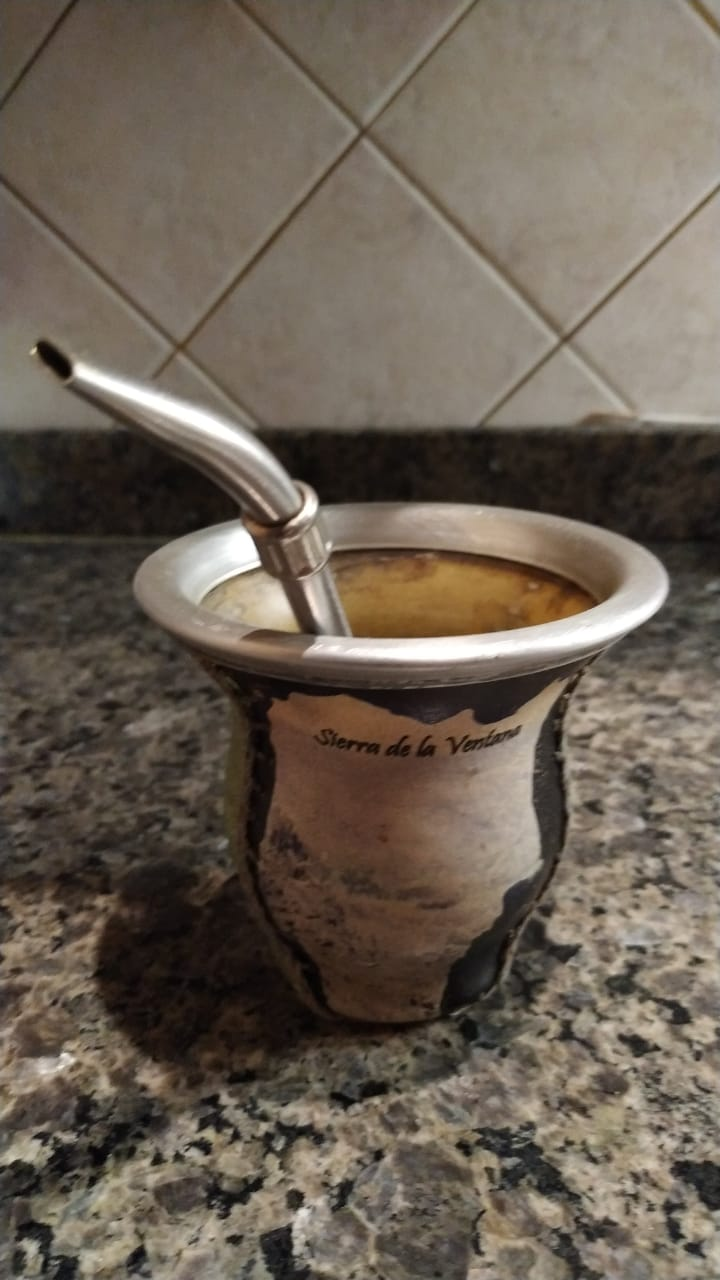mate: (25, 332, 686, 1037)
plastico: (23, 330, 684, 1035)
